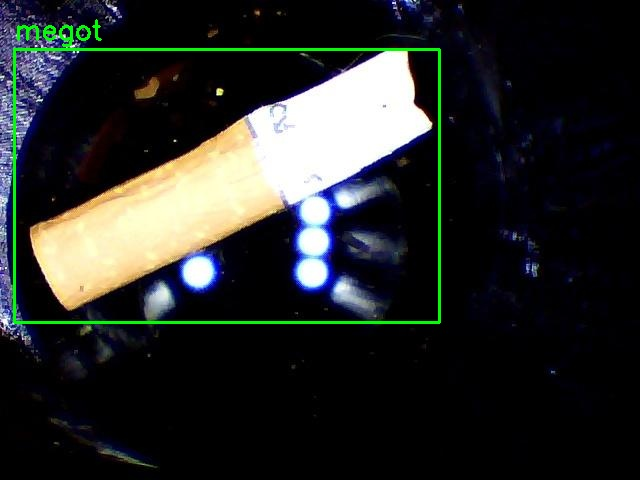megot: (14, 49, 439, 322)
